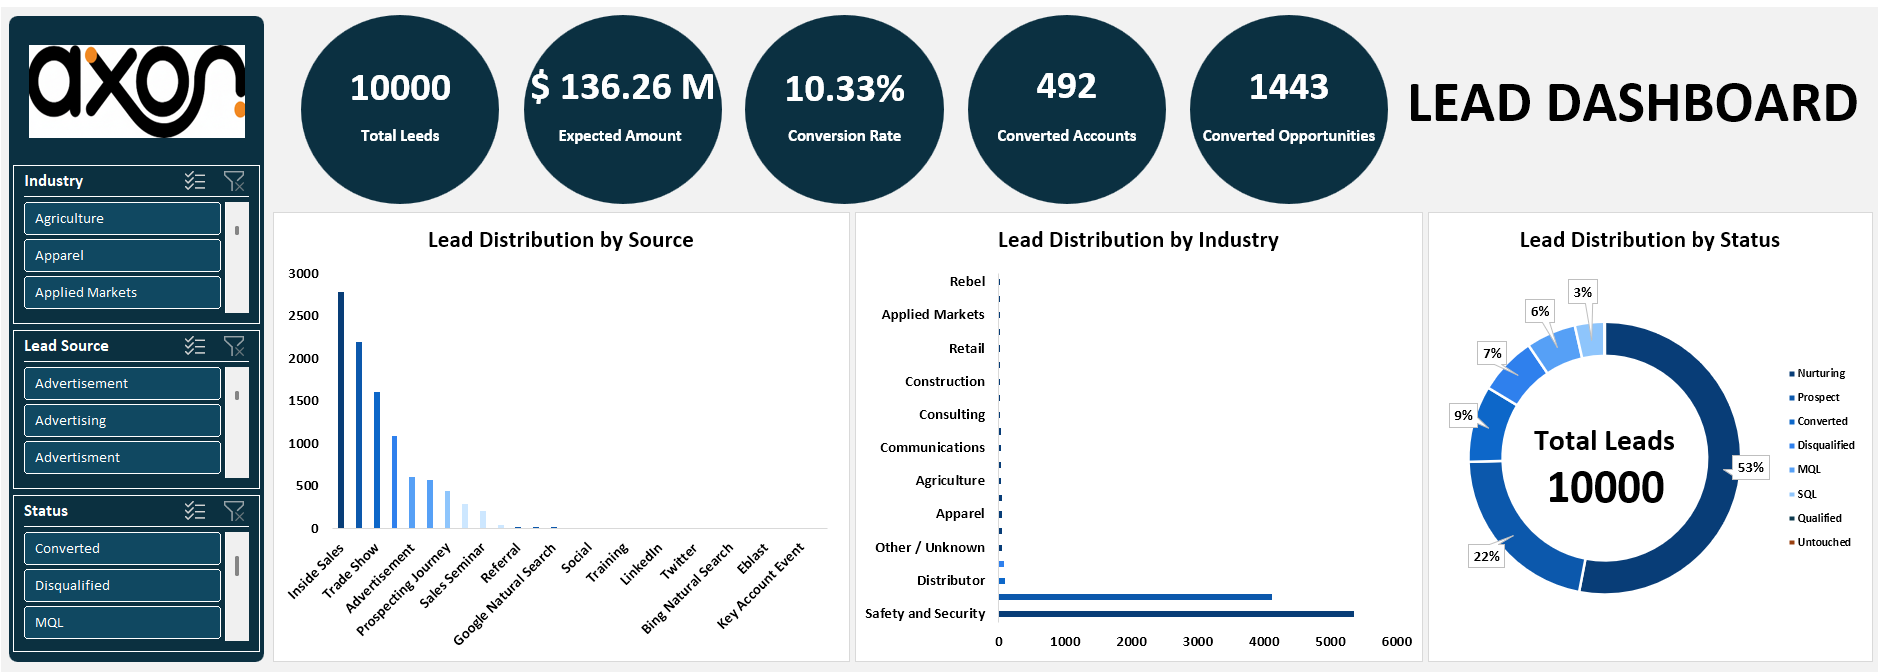

The page's visual inventory and layout, read from the dashboard file:
{"tool":"powerbi","page":{"name":"Lead Dashboard","canvas":[1780,720],"ordinal":0},"visuals":[{"type":"cardVisual","fields":{"Data":["Lead.Total Leads","Opportunity.Expected Amount Lead","Lead.Conversion Rate %","Account.Converted Accounts","Opportunity.Converted Opportunities"]},"box":[397.5,7.4,1382.8,130.1],"z":0},{"type":"donutChart","title":"Lead Generation by Source","fields":{"Category":["Lead.Lead Source"],"Y":["CountNonNull(Lead.Lead ID)"]},"box":[12.3,135,796.3,573],"z":1000},{"type":"clusteredBarChart","title":"Lead Generation by Industry","fields":{"Category":["Lead.Industry"],"Y":["CountNonNull(Lead.Lead ID)"]},"box":[818.4,135,481,573],"z":2000},{"type":"funnel","title":"Lead Conversion Funnel","fields":{"Category":["Lead.Status"],"Y":["CountNonNull(Lead.Lead ID)"]},"box":[1309.7,406.9,455.6,300],"z":3000},{"type":"slicer","fields":{"Values":["Lead.Created Date"]},"box":[1309.7,137.5,227.8,94],"z":4000},{"type":"slicer","fields":{"Values":["Lead.Industry"]},"box":[1544.5,272.2,216.7,128],"z":5000},{"type":"slicer","fields":{"Values":["Lead.Country"]},"box":[1309.7,241.7,227.8,158.3],"z":6000},{"type":"slicer","fields":{"Values":["Lead.Lead Source"]},"box":[1544.5,137.5,216.7,128],"z":7000},{"type":"textbox","box":[1490.3,0,290.3,37.5],"z":8000},{"type":"image","box":[627.8,28.9,44.4,44.4],"z":9000},{"type":"image","box":[1170.1,28.9,44.4,44.4],"z":10000},{"type":"image","box":[899,28.9,44.4,44.4],"z":11000},{"type":"image","box":[1441.3,28.9,44.4,44.4],"z":12000},{"type":"image","box":[1712.5,28.9,44.4,44.4],"z":13000},{"type":"textbox","box":[11.1,19.4,386.1,101.4],"z":14000}]}

Visuals, with their boxes on the page's 1780x720 design canvas (x1, y1, x2, y2). These are canvas units, not pixel positions in the 1884x672 screenshot, which may show the page scaled, cropped or inside an application window:
cardVisual - Lead.Total Leads x Opportunity.Expected Amount Lead: 398 7 1780 138
"Lead Generation by Source" donutChart: 12 135 809 708
"Lead Generation by Industry" clusteredBarChart: 818 135 1299 708
"Lead Conversion Funnel" funnel: 1310 407 1765 707
slicer - Lead.Created Date: 1310 138 1538 232
slicer - Lead.Industry: 1544 272 1761 400
slicer - Lead.Country: 1310 242 1538 400
slicer - Lead.Lead Source: 1544 138 1761 266
textbox: 1490 0 1781 38
image: 628 29 672 73
image: 1170 29 1214 73
image: 899 29 943 73
image: 1441 29 1486 73
image: 1712 29 1757 73
textbox: 11 19 397 121
